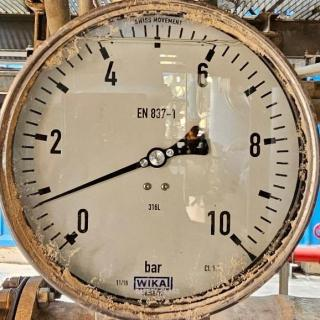gauge: (0, 0, 320, 320), (206, 208, 254, 262), (54, 216, 90, 256), (146, 146, 167, 168), (30, 201, 44, 211)
